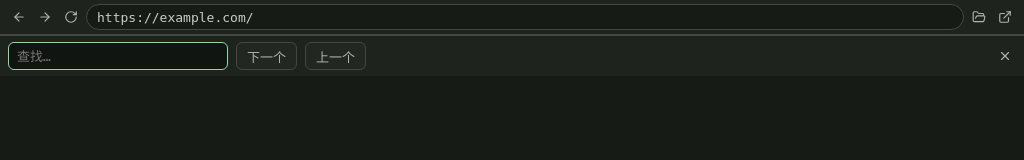
Scenario: BrowserTabView › 同 URL 刷新（loading 翻转）同样清零计数（review 三轮 #3）
In the field with placeholder "查找…": (118, 56) [8,42,228,70], type "hello"
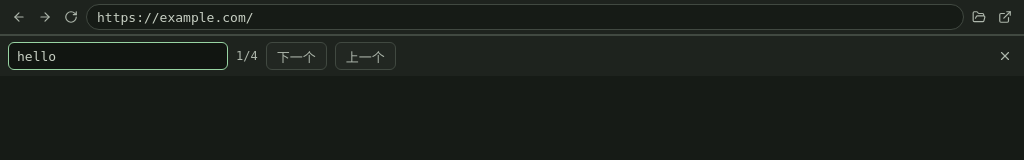
Expected: the text "1/4" is shown, [236,49,258,63]
Replace the text in the field named "输入地址" with "https://example.com/editing": (525, 17) [86,4,964,30]
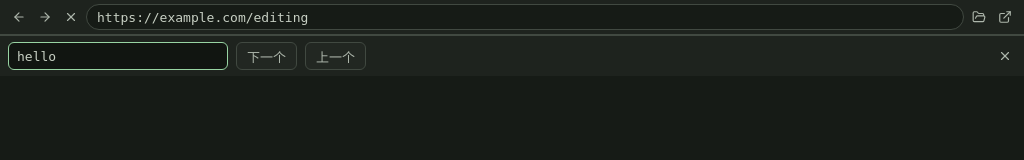
Expected: the text "1/4" is gone
